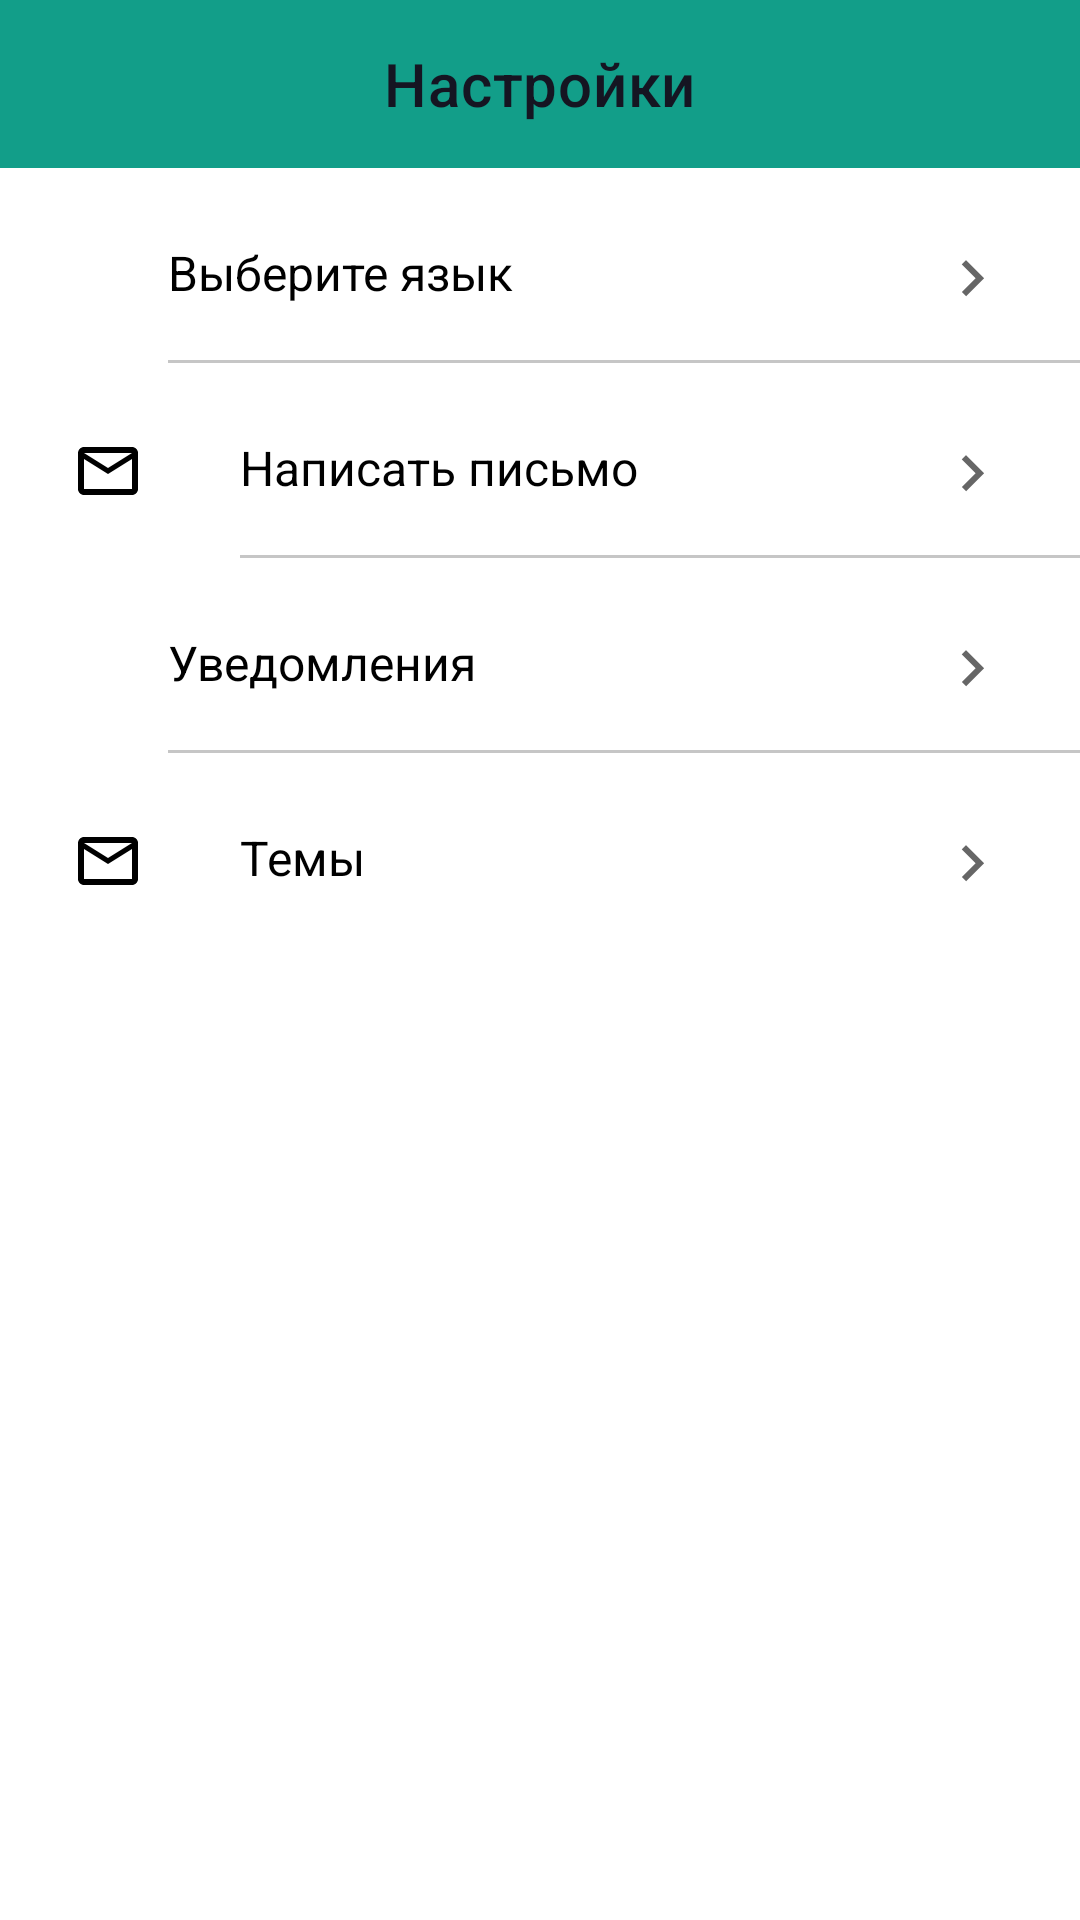

Icons on this 1080 x 1920 Android screen, each with the point to tap as (x,y):
mail: (108,471), (108,861)
